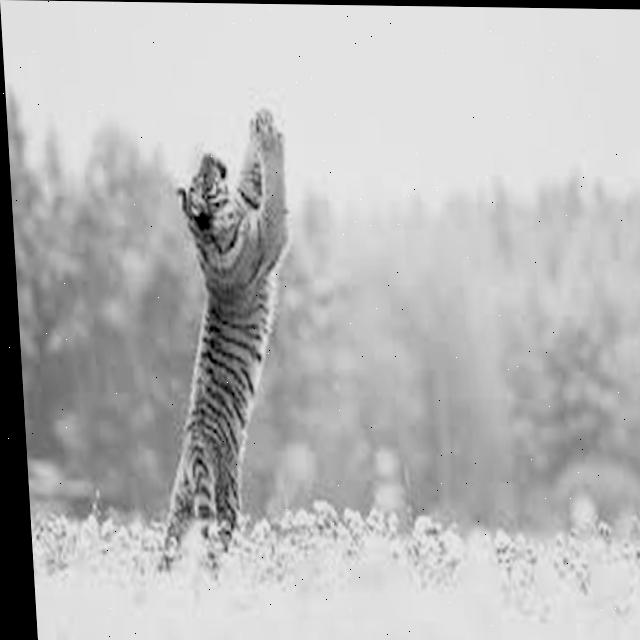Tiger: (127, 104, 314, 576)
